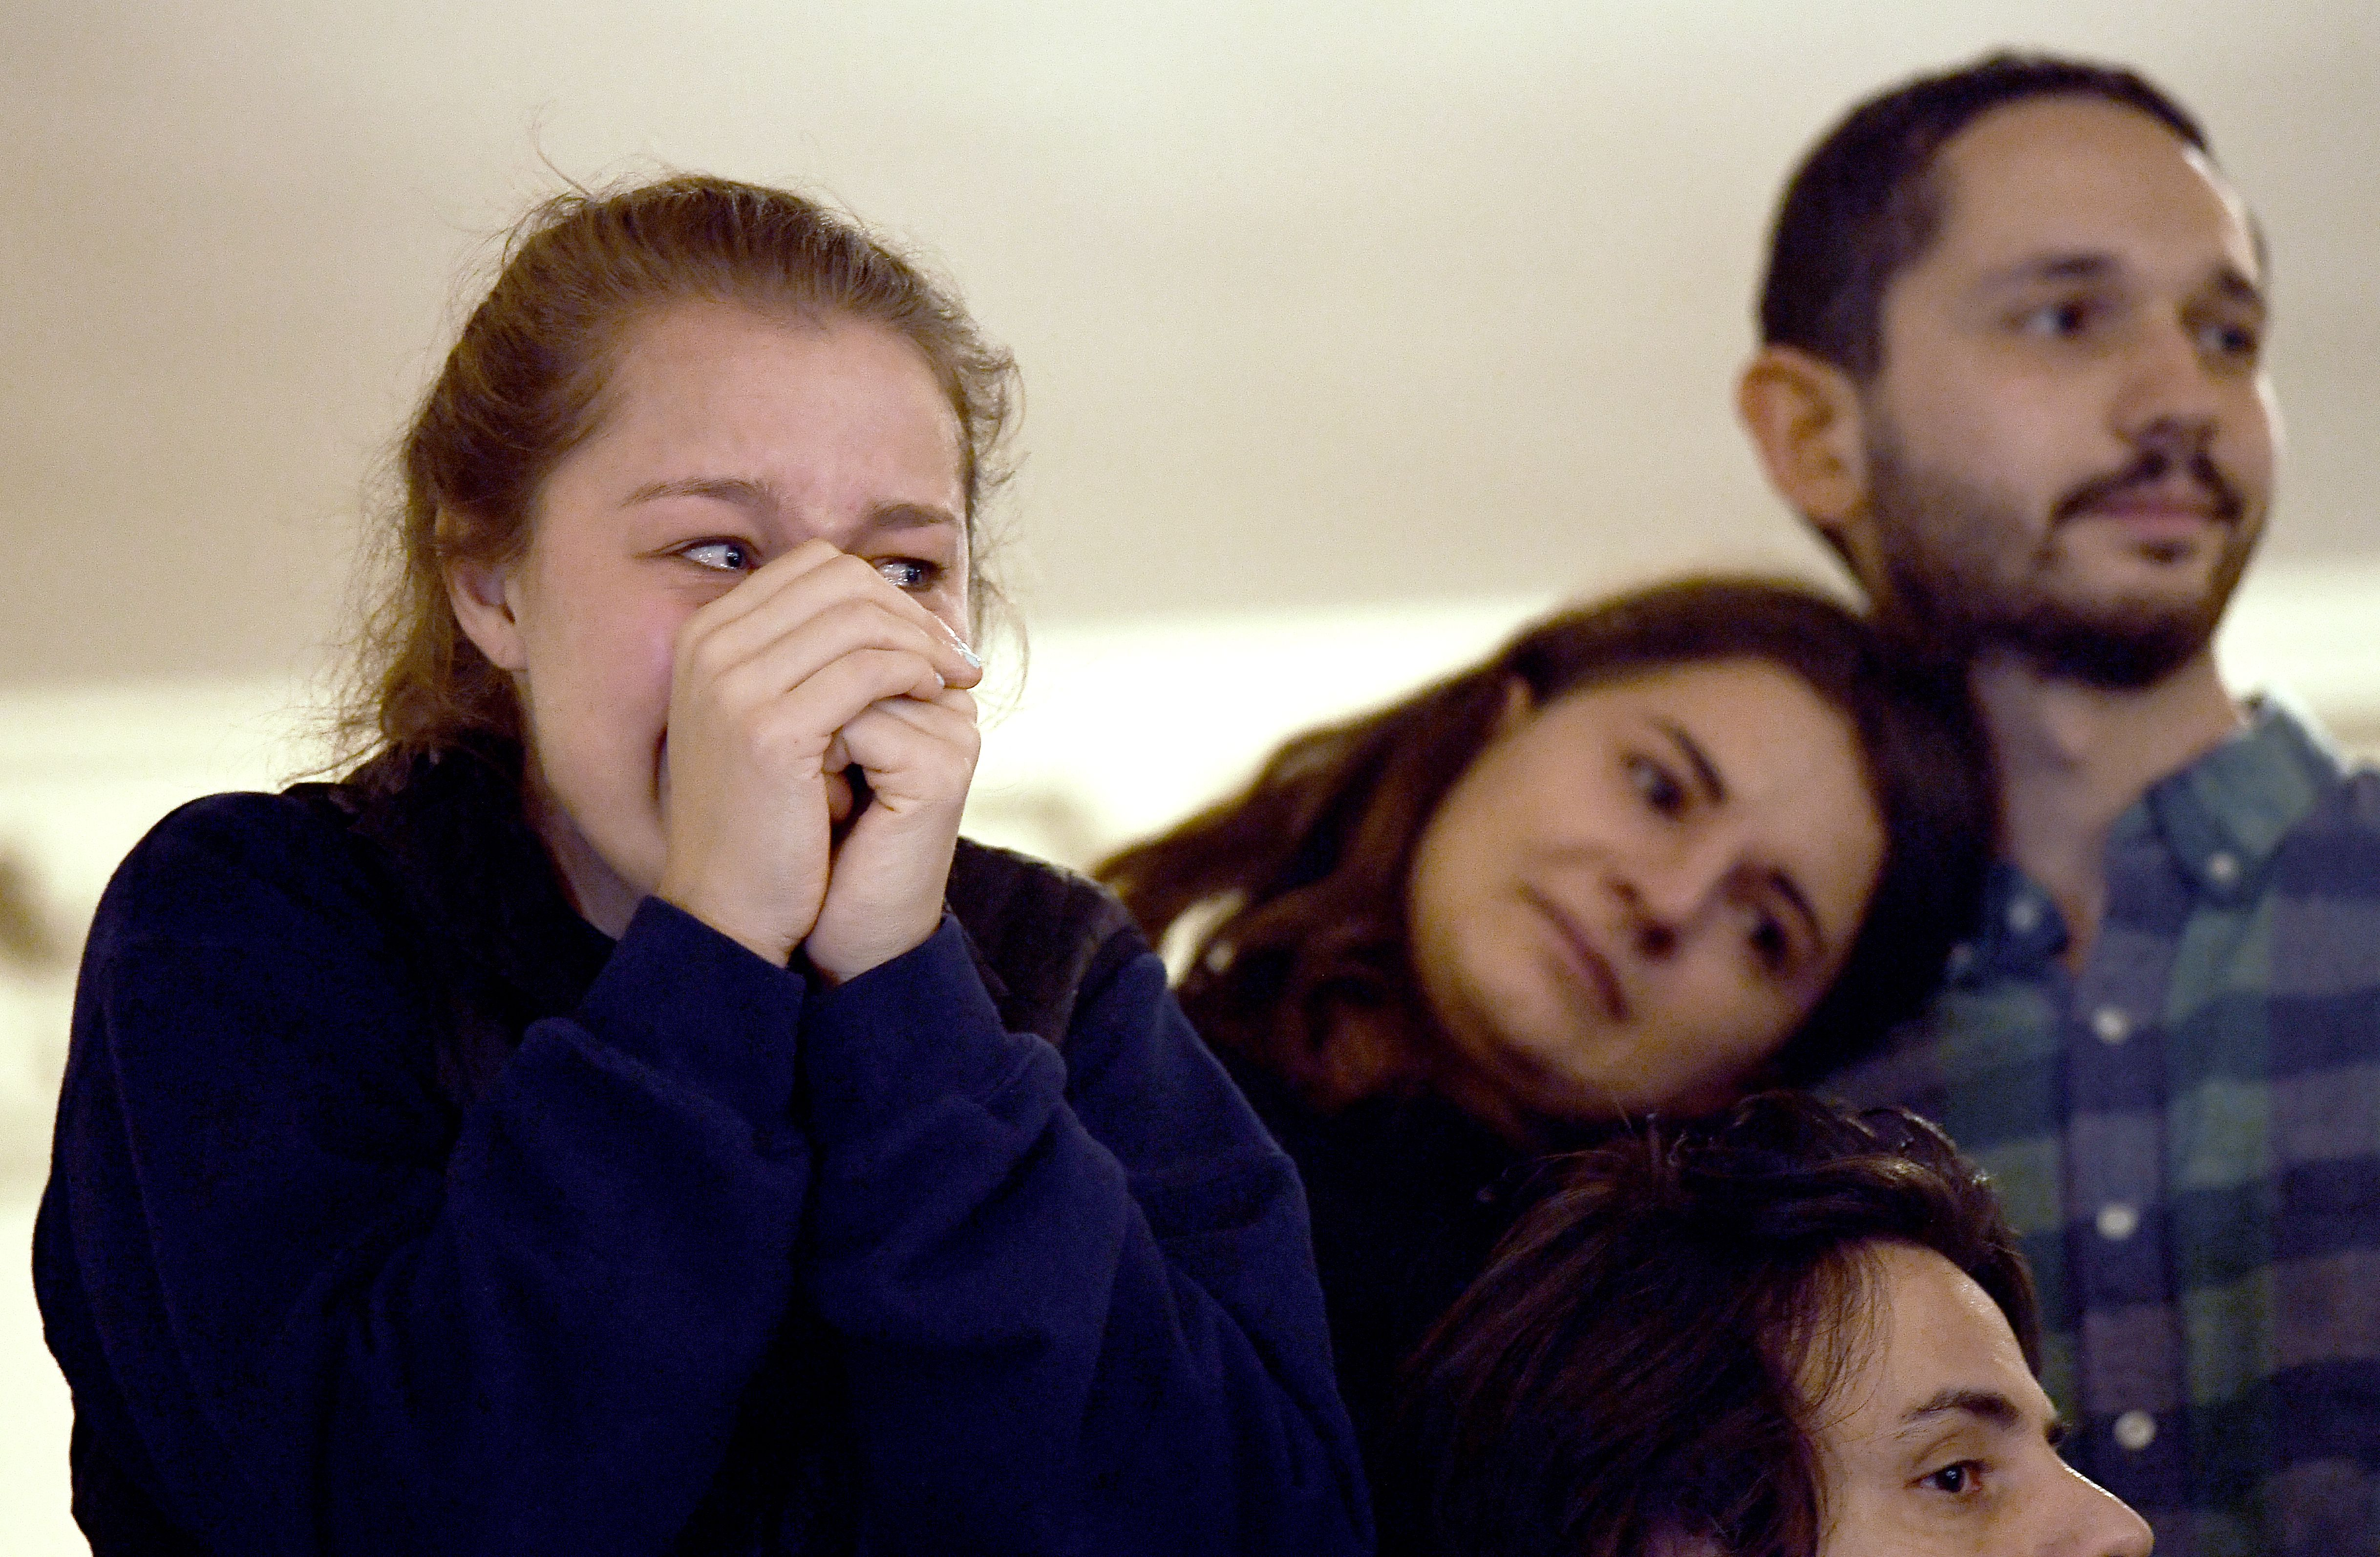sad: (469, 291, 1010, 931), (1883, 138, 2303, 650), (1376, 691, 1859, 1117)
